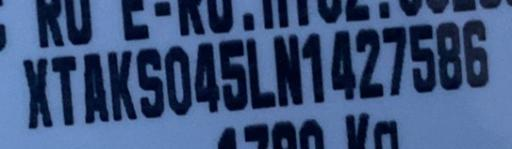letter: (216, 37, 250, 114), (244, 37, 278, 110), (20, 56, 54, 129), (353, 26, 385, 101), (406, 22, 438, 95), (272, 34, 304, 107), (162, 44, 194, 117), (134, 46, 166, 119), (106, 48, 138, 121), (328, 28, 358, 103), (81, 51, 111, 124), (49, 54, 79, 127), (460, 18, 490, 89), (434, 20, 464, 91), (192, 41, 220, 116), (380, 24, 408, 97), (300, 30, 326, 105)
